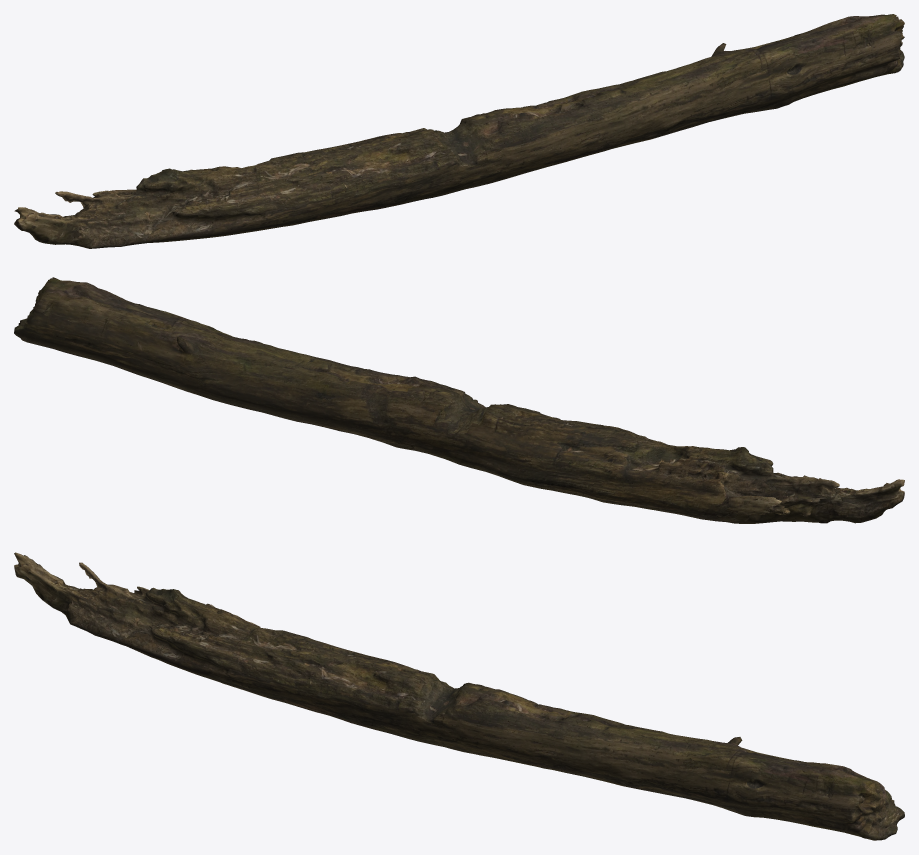
The model's file is dead_tree_trunk.glb.
3 renders of one model, top to bottom at view 1: azimuth 30°, elevation 25°; view 2: azimuth 150°, elevation 25°; view 3: azimuth 330°, elevation 25°, orthographic.
Parts seen in each view (by area): view 1: dead_tree_trunk_lod0; view 2: dead_tree_trunk_lod0; view 3: dead_tree_trunk_lod0.
Part boxes in pixels (x1,y1,x2,y2): dead_tree_trunk_lod0: (14,14,904,248); dead_tree_trunk_lod0: (14,277,904,523); dead_tree_trunk_lod0: (14,552,904,840).
Size of what is drawn, in the model's own units: 3.05 by 0.2894 by 0.2771.
Materials: 1 (1 with a texture image).
